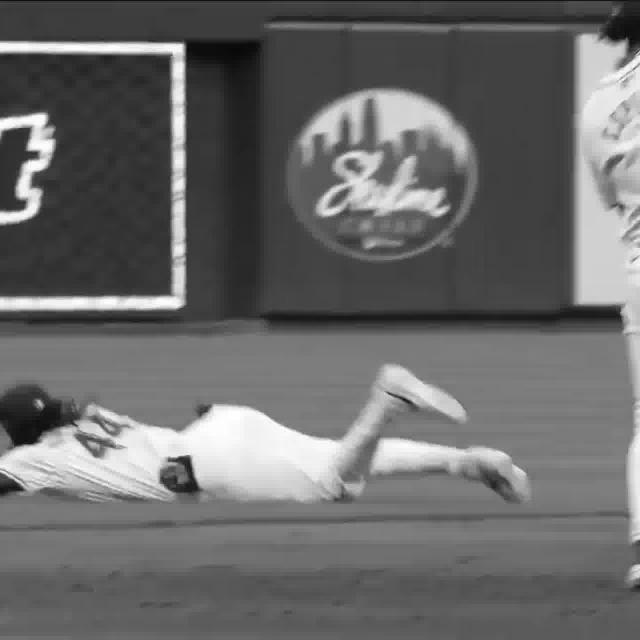shoe: (379, 360, 467, 422), (472, 442, 536, 496)
